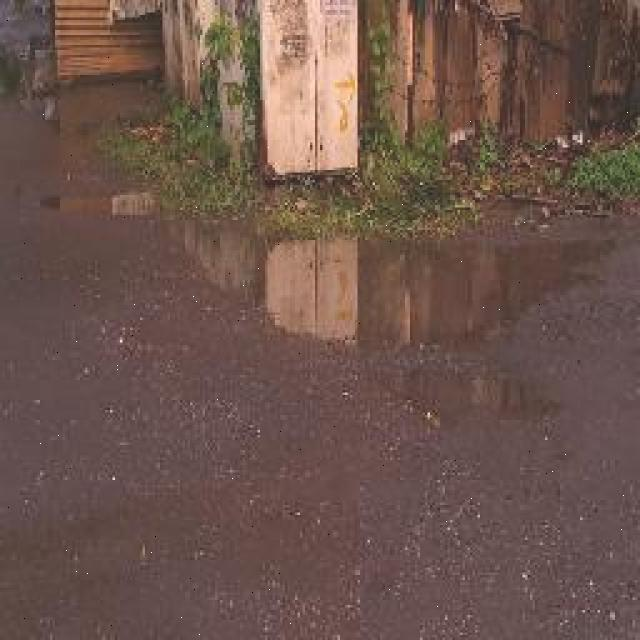stagnation: (248, 229, 606, 340)
